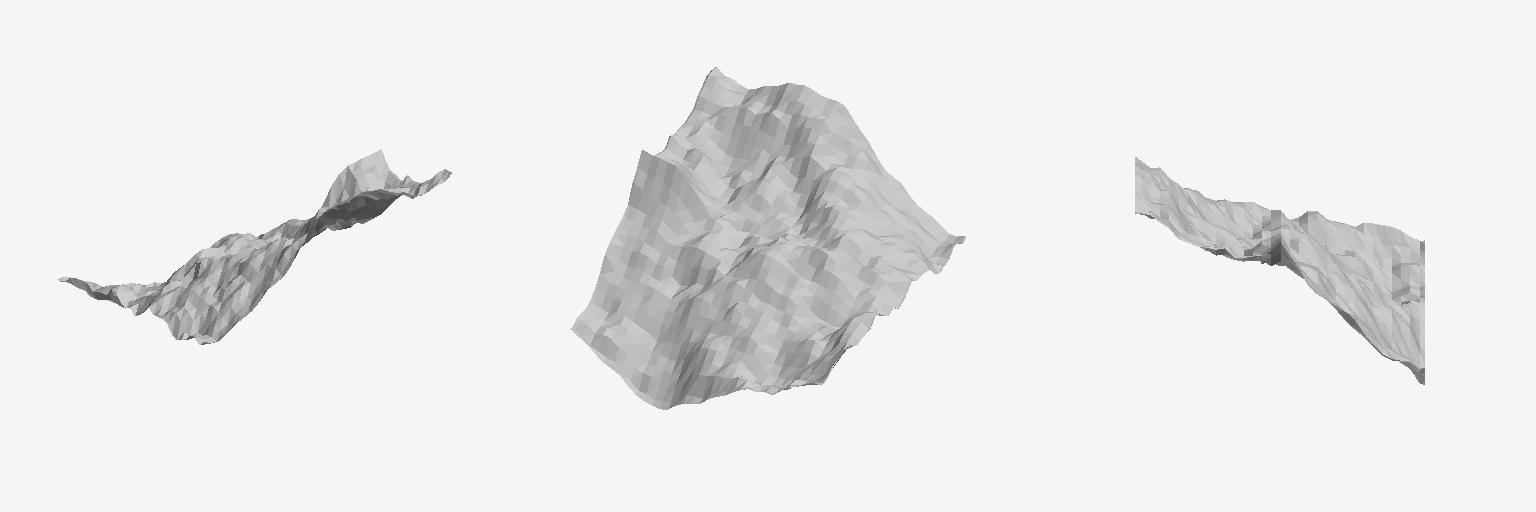
The model's file is terrain_-1_3.obj.
3 views of the same model, side by side, from view 1: azimuth 30°, elevation 25°; view 2: azimuth 150°, elevation 25°; view 3: azimuth 270°, elevation 25° (orthographic).
Visible parts, largest first — view 1: terrain_-1_3_Plane.066; view 2: terrain_-1_3_Plane.066; view 3: terrain_-1_3_Plane.066.
Part boxes in pixels (x1,y1,x2,y2): terrain_-1_3_Plane.066: (58, 149, 451, 344); terrain_-1_3_Plane.066: (570, 67, 965, 409); terrain_-1_3_Plane.066: (1135, 157, 1424, 384).
Size of the model in its own units: 32 by 26.44 by 32.